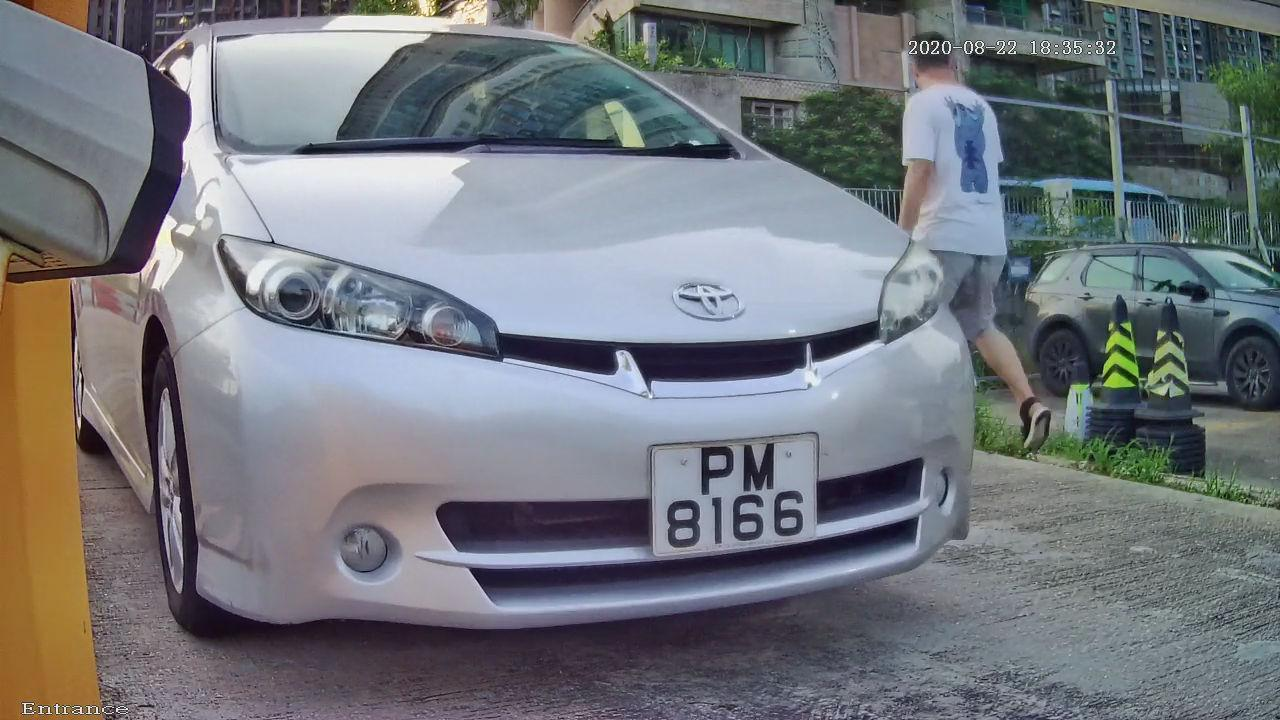Car: (58, 1, 1069, 688)
License Plate: (635, 422, 835, 569)
